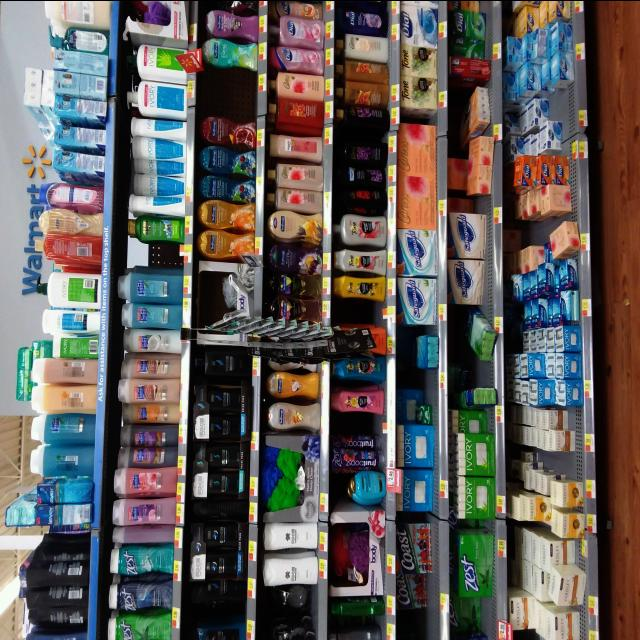empty_space: (207, 74, 251, 116), (126, 241, 174, 267), (338, 298, 382, 314), (539, 453, 577, 471), (404, 615, 436, 633)
